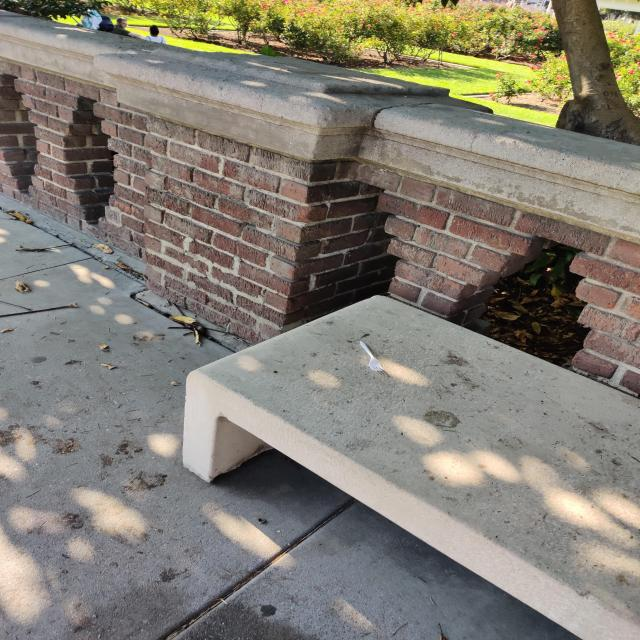litter: (176, 315, 209, 341), (363, 341, 385, 371)
